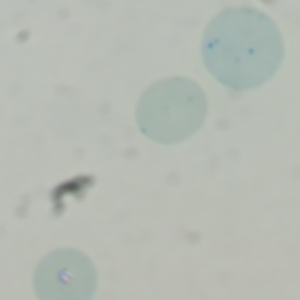erythrocyte: (31, 246, 98, 300)
punctate reticulocyte: (198, 6, 285, 91), (134, 75, 210, 147)
